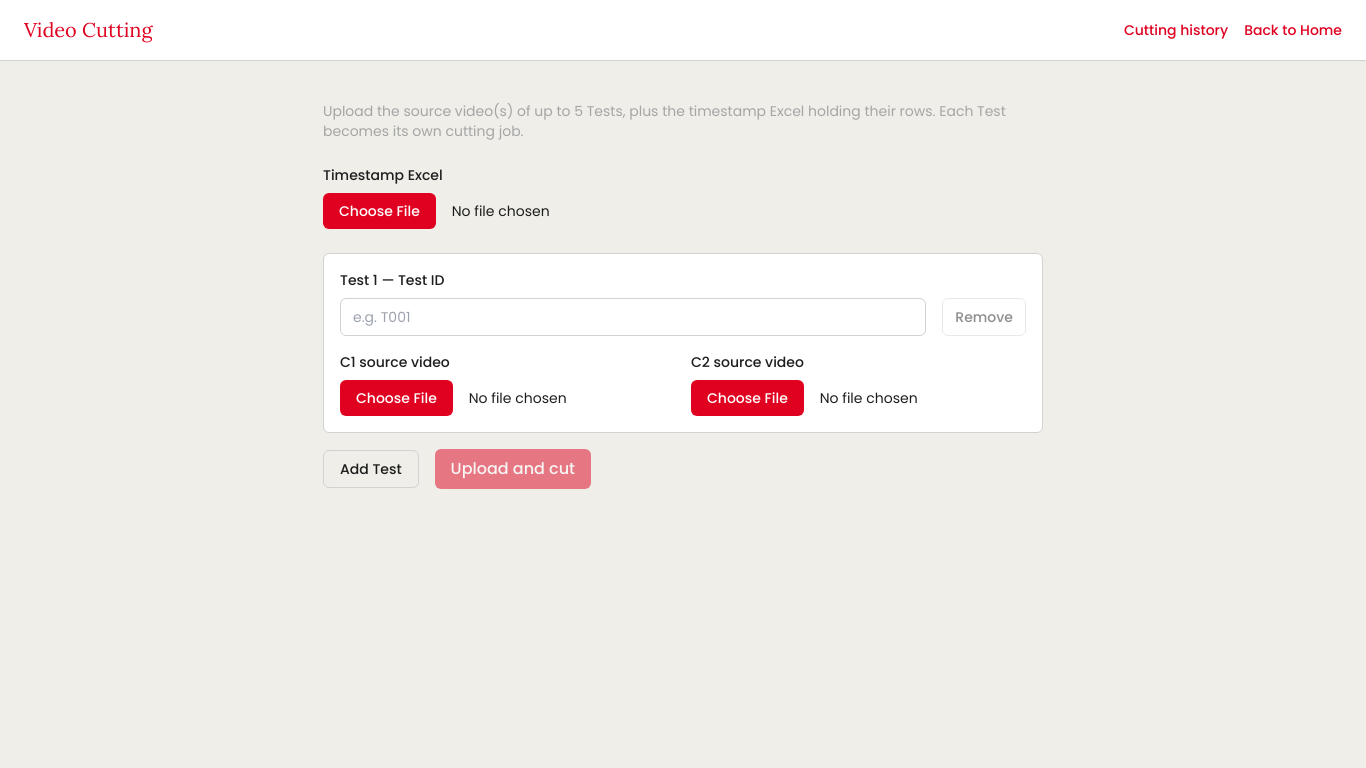
Test case: CuttingUploadView › lets a researcher add Tests to the batch up to five
The width and height of the screenshot is (1366, 768).
Expected: the number of list items with test id "test-entry" is 1, [323,253,1043,433]
Click the button with test id "add-test" at (371, 469), box [323,450,419,488]
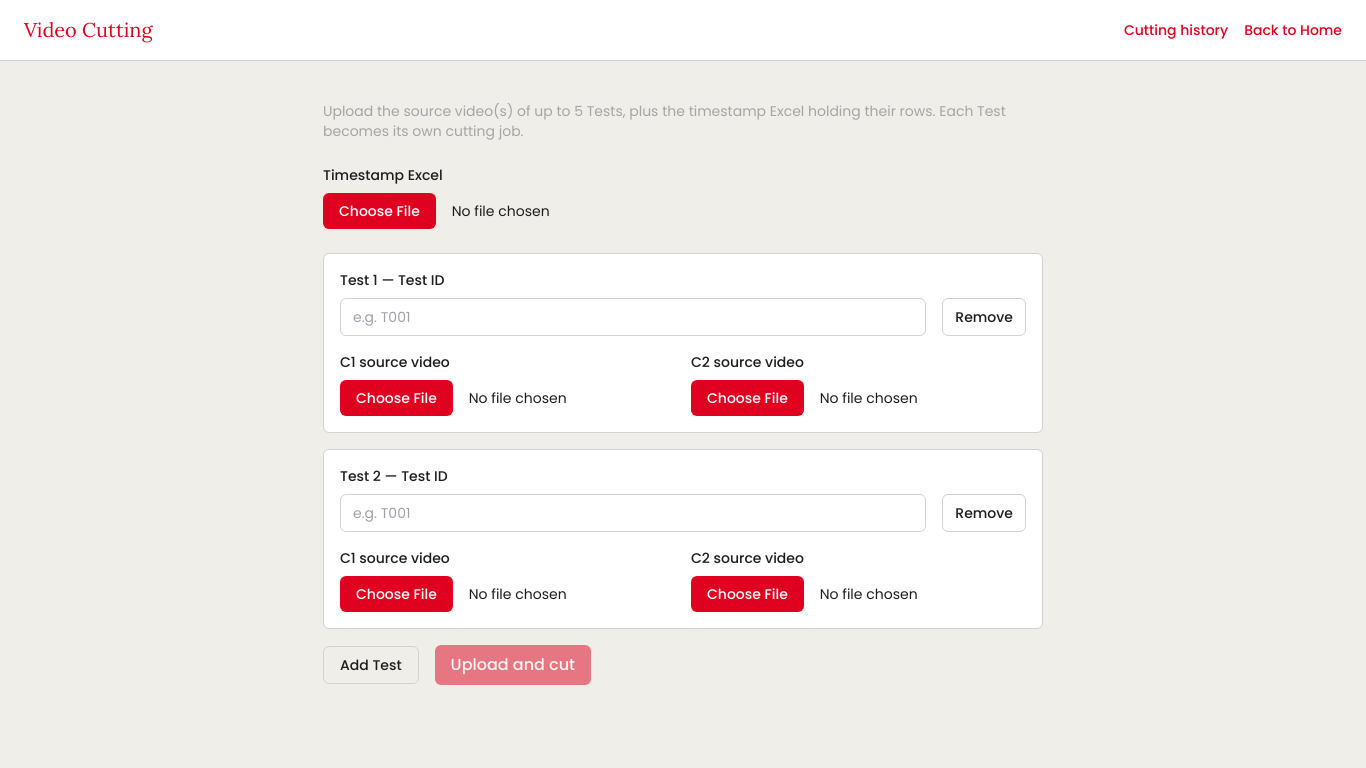
Click the button with test id "add-test" at (371, 665), box [323,646,419,684]
(page scrolled)
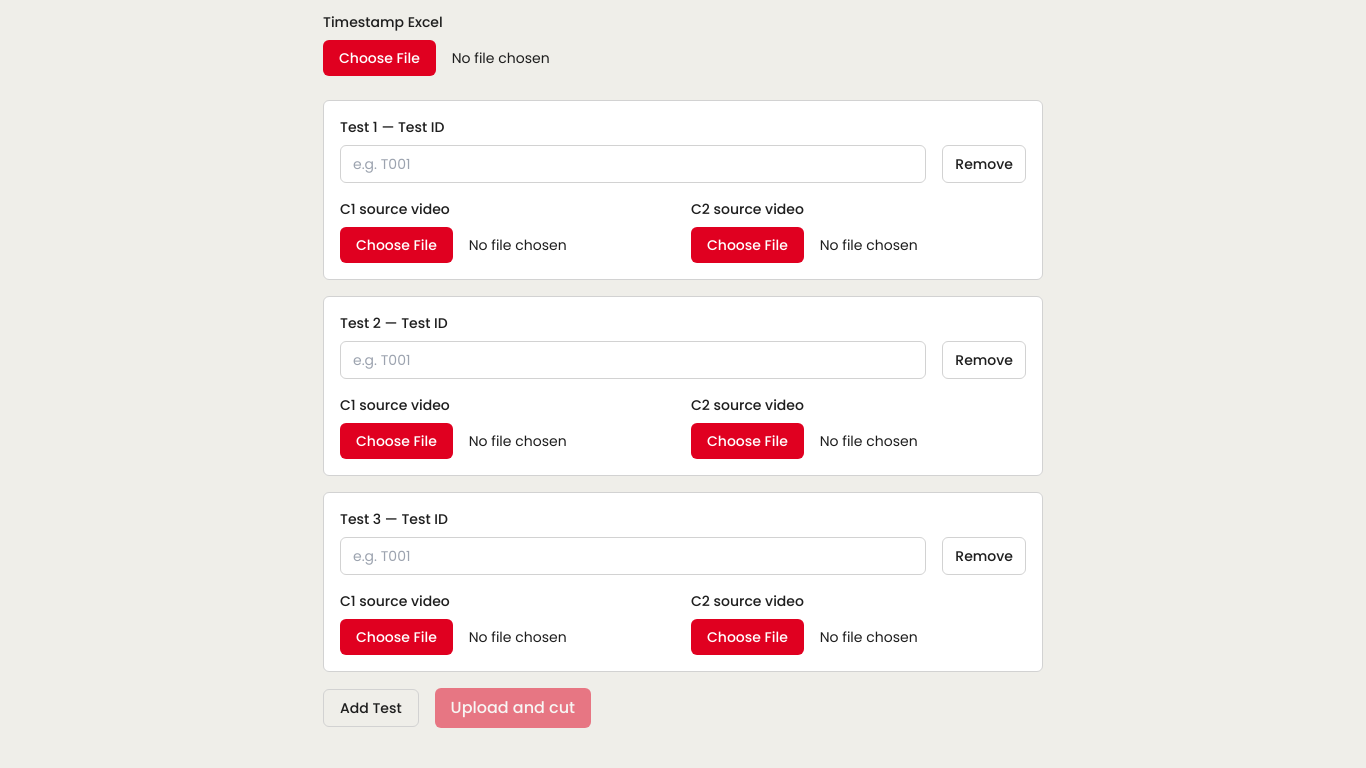
Click the button with test id "add-test" at (371, 708), box [323,689,419,727]
(page scrolled)
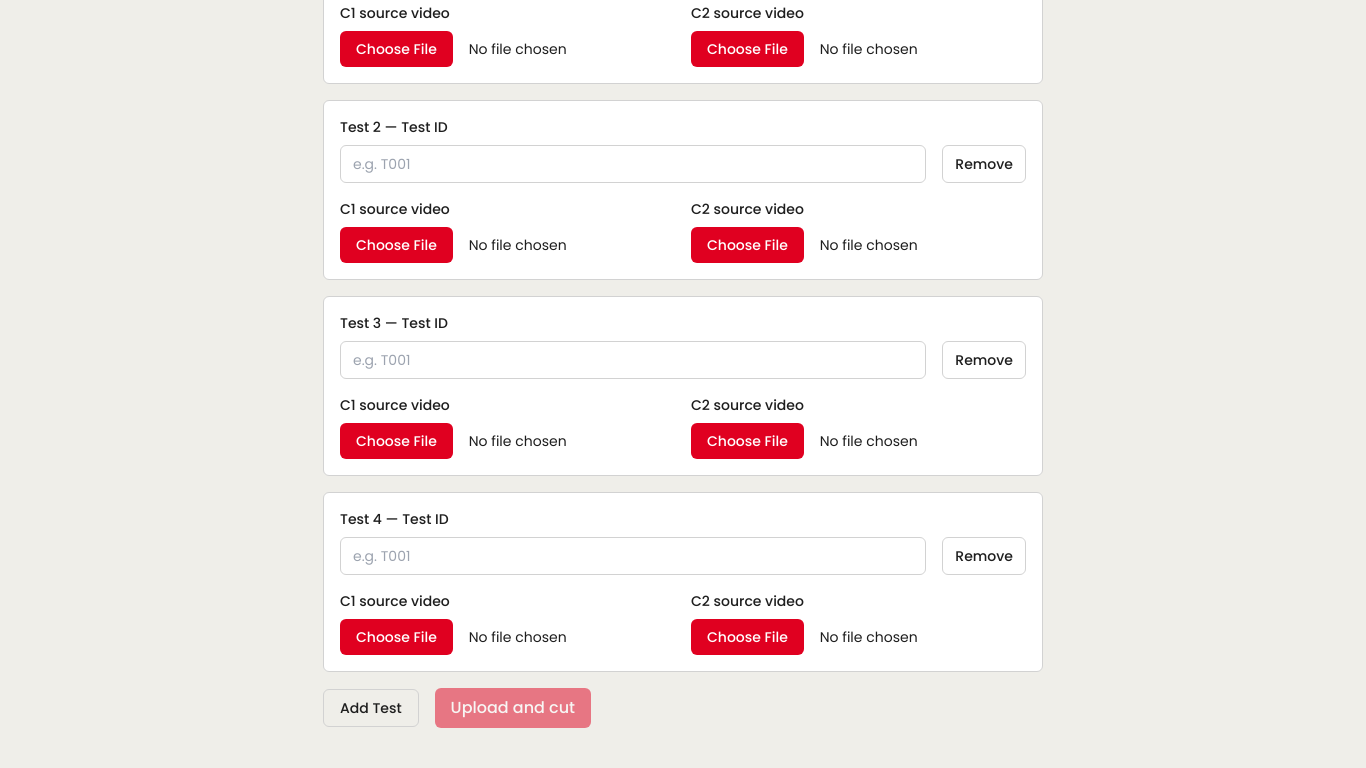
Click the button with test id "add-test" at (371, 708), box [323,689,419,727]
(page scrolled)
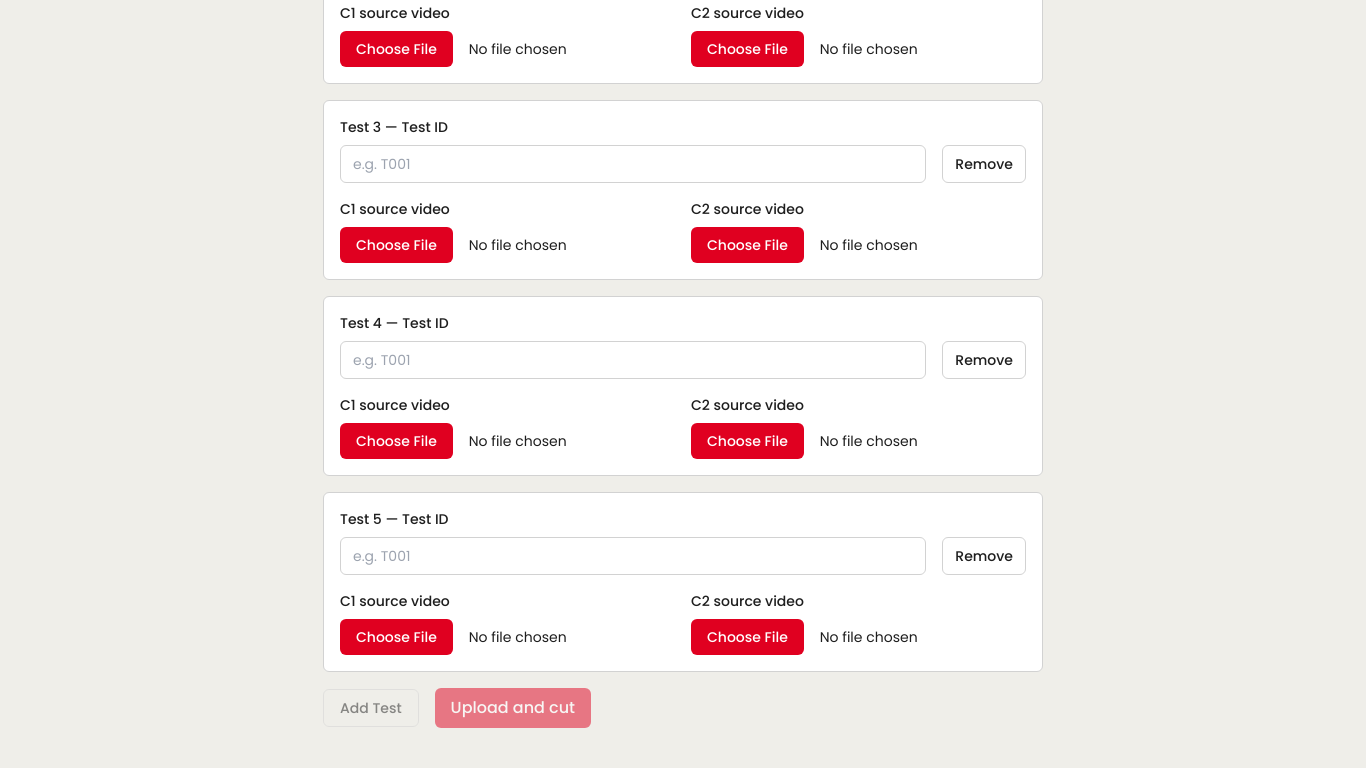
Expected: the number of elements with test id "test-entry" is 5
Expected: the button with test id "add-test" is disabled, [323,689,419,727]
